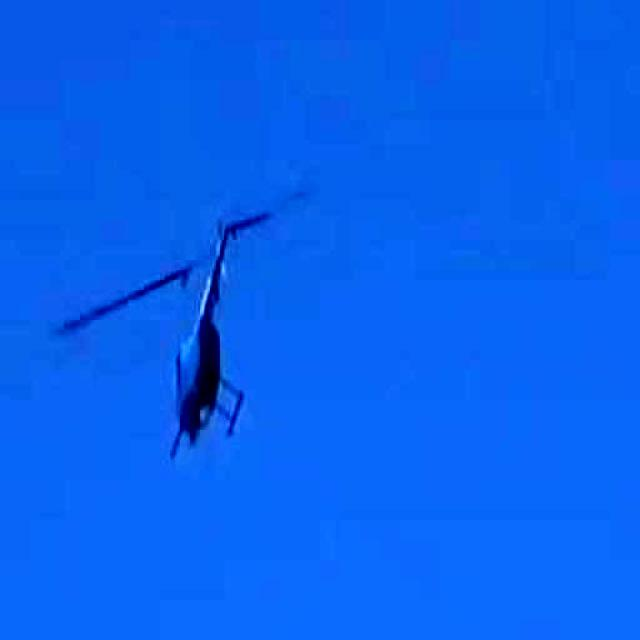drone: (85, 190, 311, 492)
